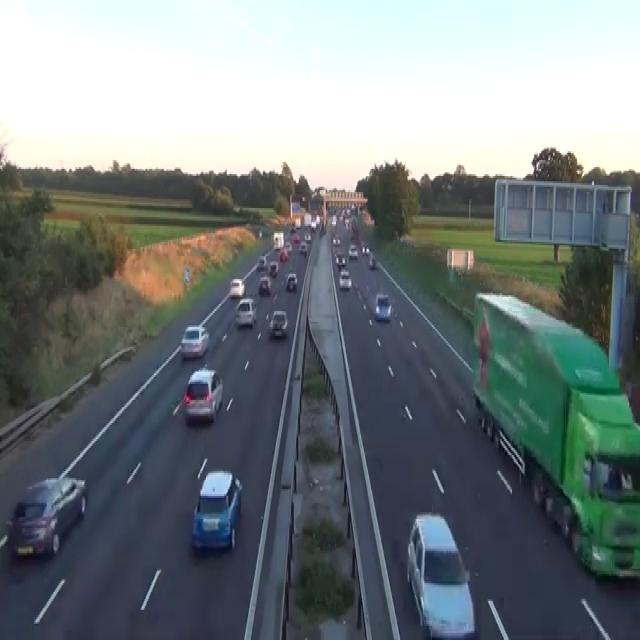Car: (406, 512, 476, 638), (6, 475, 87, 560), (191, 469, 242, 553), (183, 366, 223, 423), (180, 324, 209, 359), (234, 297, 257, 327), (269, 309, 288, 336), (374, 292, 391, 320), (229, 277, 245, 297), (339, 270, 351, 290), (259, 276, 271, 295), (286, 272, 297, 290), (335, 250, 345, 268), (348, 243, 358, 260), (257, 254, 267, 270), (298, 240, 307, 256), (269, 260, 278, 276), (455, 265, 467, 275), (279, 249, 288, 261), (369, 254, 376, 268), (284, 240, 292, 252), (319, 222, 326, 235), (361, 244, 370, 254), (332, 235, 340, 245), (304, 231, 311, 242), (293, 233, 300, 243), (233, 204, 240, 213), (310, 221, 316, 231), (331, 215, 336, 226), (344, 219, 349, 229), (290, 226, 296, 233), (258, 230, 262, 238), (368, 318, 372, 326), (361, 244, 365, 252), (366, 246, 370, 254)
Truck: (471, 290, 639, 581), (446, 247, 474, 274), (273, 231, 284, 249)
